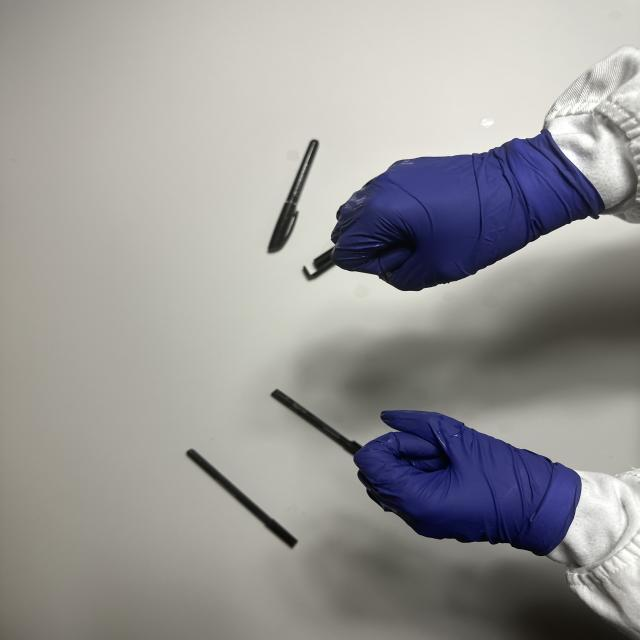gloves_contaminated: (332, 133, 603, 290), (354, 410, 580, 555)
